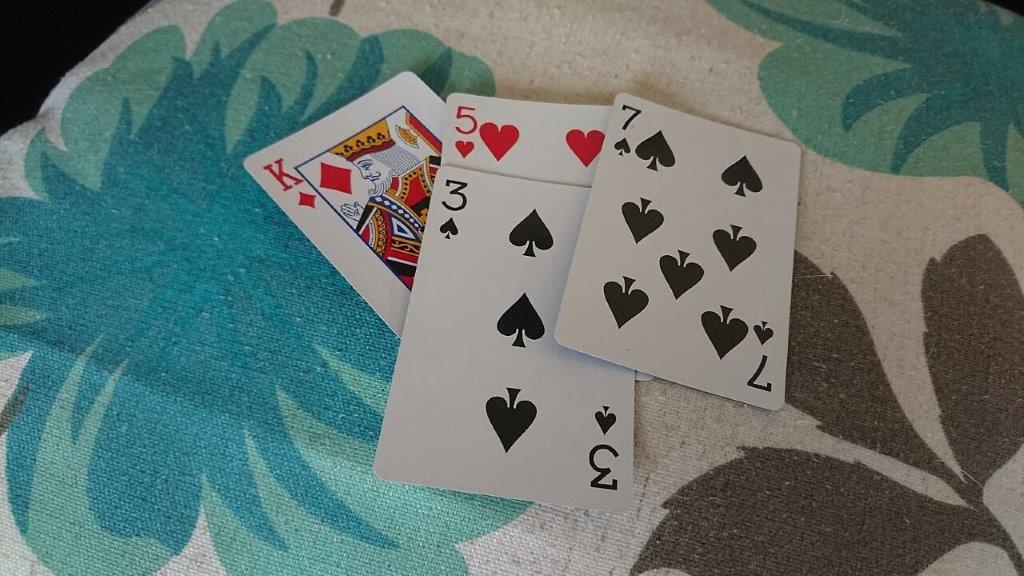3S: (435, 177, 471, 244)
5H: (451, 101, 479, 162)
7S: (611, 100, 644, 160)
KD: (259, 154, 321, 214)
